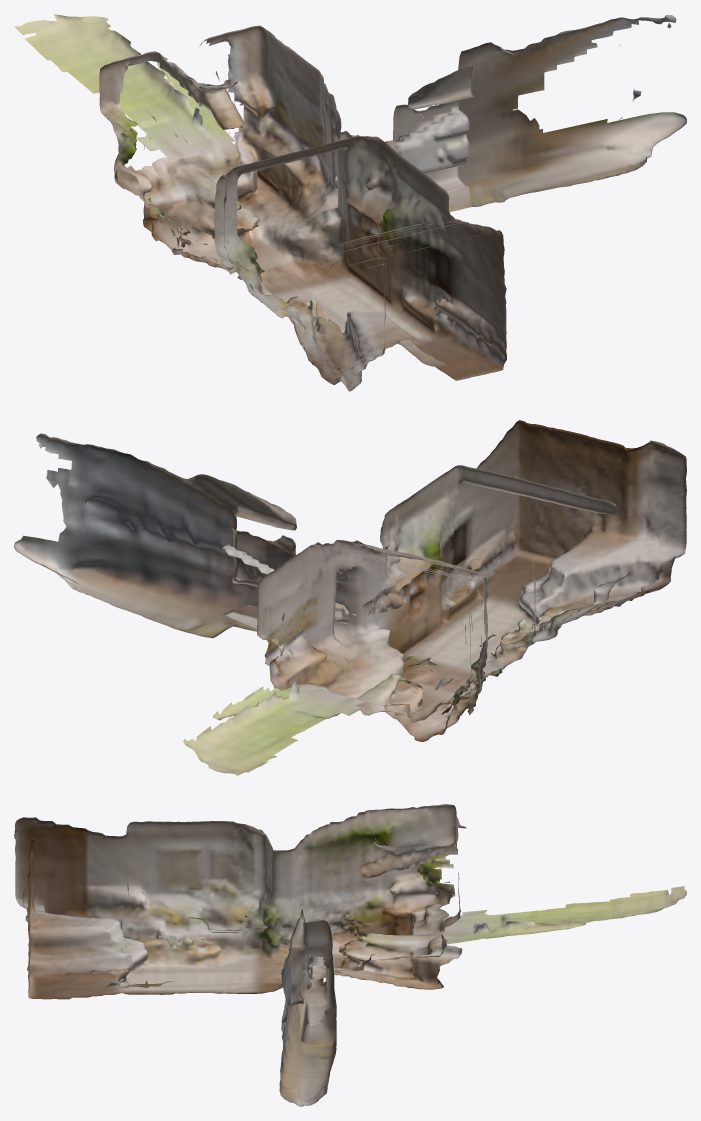
Rendered from serene_living_room_collider.glb.
The picture shows the model from 3 angles, top to bottom: view 1: azimuth 30°, elevation 25°; view 2: azimuth 150°, elevation 25°; view 3: azimuth 270°, elevation 25°; orthographic projection. The views are drawn at different scales.
Parts seen in each view (by area): view 1: world; view 2: world; view 3: world.
Part boxes in pixels (x1,y1,x2,y2): world: (14,14,686,391); world: (14,420,686,775); world: (14,804,686,1106).
Bounding box in the file's own units: 11.79 × 3.57 × 15.94.
